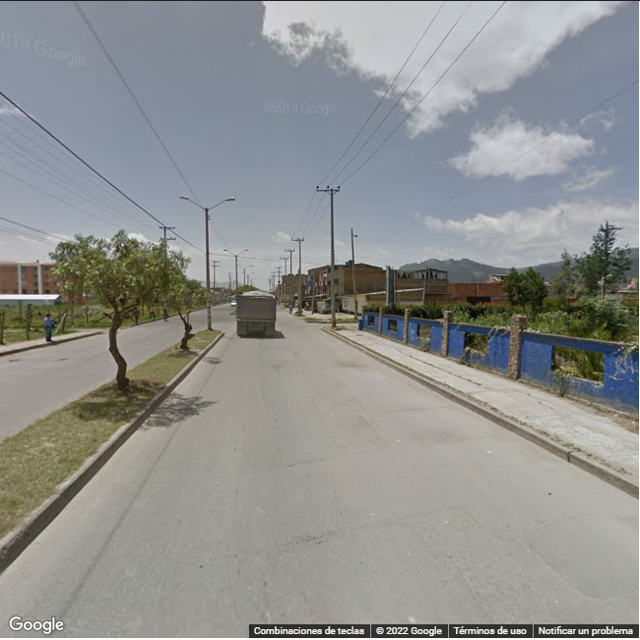D00: (321, 466, 341, 512)
D10: (279, 450, 353, 464)
D20: (457, 553, 559, 617)
